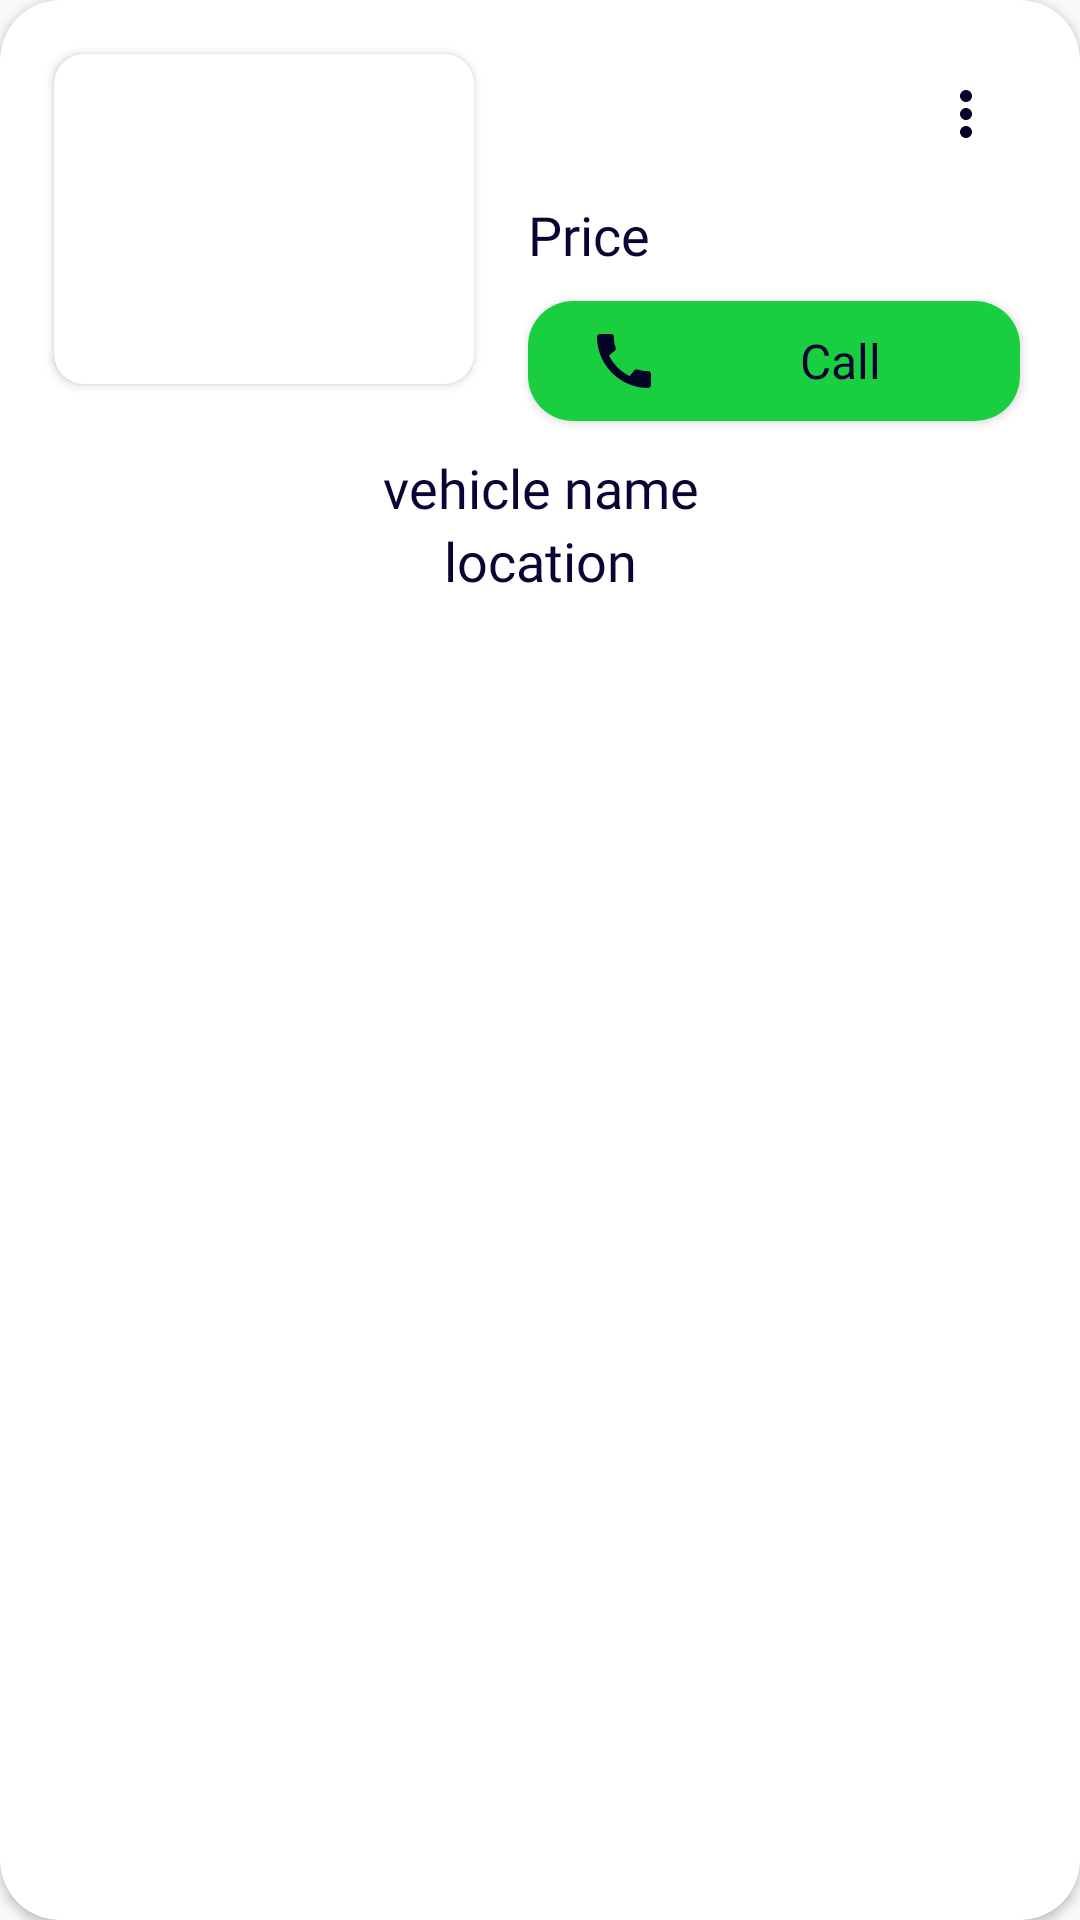

Screen size 1080 x 1920. Icon name, then its center in pixels as (x,y):
more vert: (966,114)
